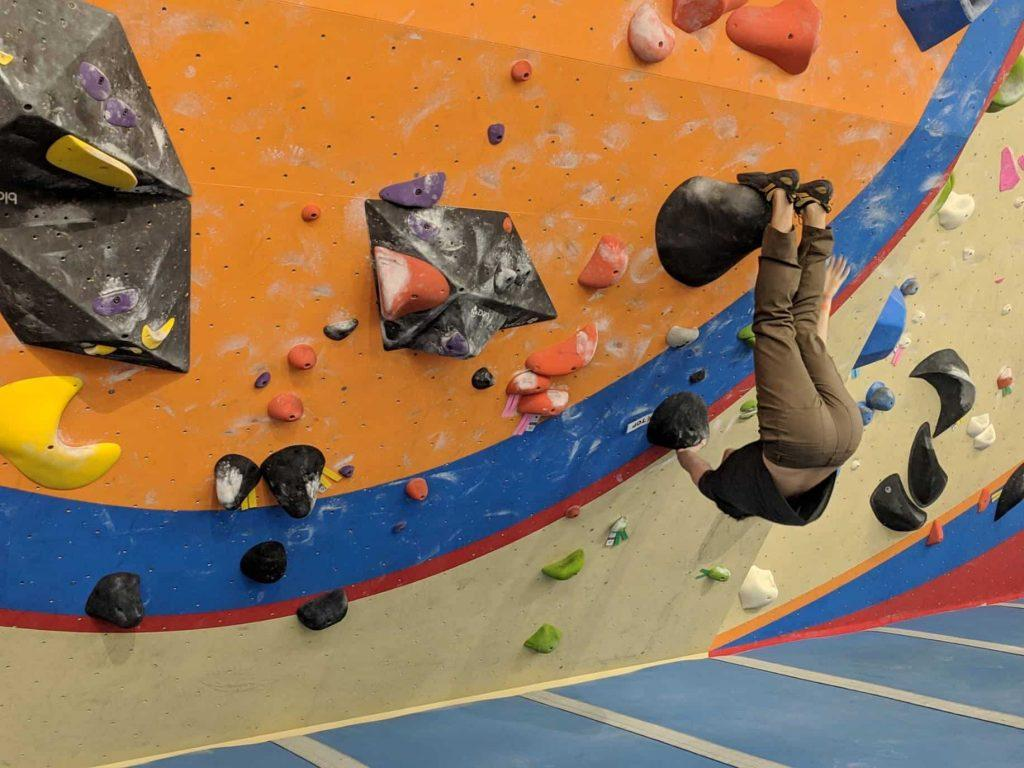black-hold: (644, 168, 777, 300), (0, 376, 122, 489), (254, 431, 347, 526), (903, 342, 988, 441), (43, 128, 143, 206), (725, 0, 823, 76), (851, 285, 922, 382), (373, 238, 453, 322), (520, 319, 612, 390), (889, 420, 956, 511), (82, 561, 158, 636), (860, 470, 932, 546), (896, 0, 995, 54), (613, 0, 685, 73), (197, 443, 269, 515), (574, 229, 640, 303), (646, 390, 712, 450), (376, 170, 452, 218), (292, 584, 357, 639), (974, 53, 1024, 124), (979, 461, 1024, 526), (672, 0, 749, 34), (932, 184, 980, 237), (68, 56, 119, 105), (539, 544, 593, 589), (734, 561, 782, 611), (521, 617, 568, 664), (239, 540, 288, 585), (134, 306, 179, 354), (927, 169, 961, 224), (89, 286, 142, 320), (517, 389, 569, 417), (505, 370, 553, 395), (285, 340, 320, 374), (864, 379, 899, 413), (321, 316, 362, 345), (103, 97, 140, 128), (267, 392, 305, 422), (998, 146, 1022, 192), (968, 423, 1002, 455), (467, 364, 499, 394), (962, 410, 995, 439), (436, 331, 470, 358), (666, 324, 700, 351), (853, 397, 879, 427), (993, 366, 1020, 393), (508, 58, 535, 84), (897, 275, 922, 300), (734, 322, 757, 349), (705, 561, 733, 583), (405, 477, 429, 501), (607, 514, 632, 537), (252, 369, 275, 392), (299, 203, 322, 226), (924, 519, 944, 544), (84, 343, 117, 357), (487, 124, 505, 145), (977, 488, 992, 512), (739, 397, 760, 413), (391, 518, 409, 536), (909, 309, 928, 326), (688, 369, 708, 385), (0, 50, 15, 68), (501, 216, 515, 235), (338, 463, 354, 479), (897, 335, 913, 351), (118, 345, 143, 355), (565, 505, 580, 519), (1011, 195, 1024, 210), (847, 459, 862, 472), (962, 247, 975, 261), (1002, 304, 1012, 316), (1017, 155, 1024, 171)
